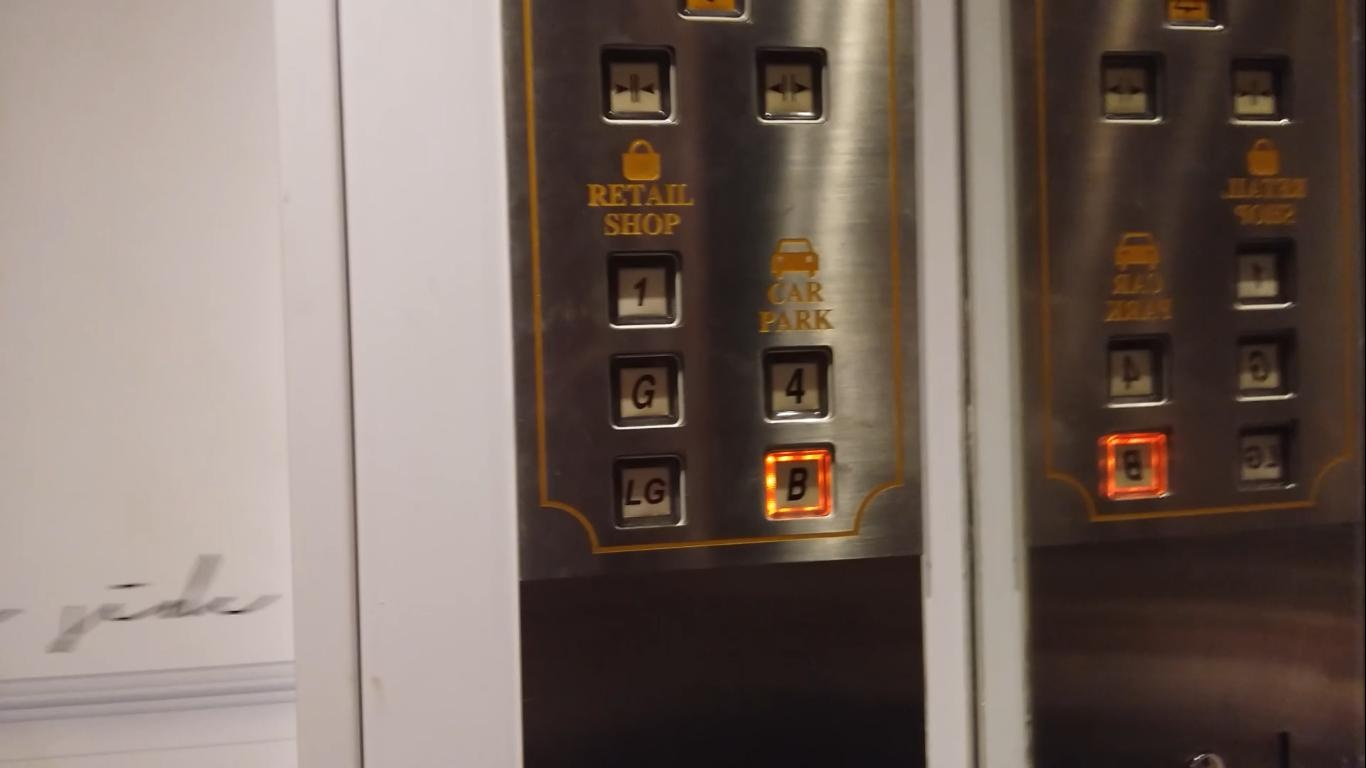1: (600, 246, 685, 333)
4: (757, 338, 839, 429)
B: (760, 444, 844, 523)
G: (605, 346, 688, 436)
LG: (606, 450, 691, 537)
close: (593, 39, 683, 130), (1223, 49, 1296, 130)
open: (747, 40, 830, 131), (1094, 45, 1169, 130)
unknown: (1097, 326, 1175, 412), (1220, 329, 1307, 406), (1094, 423, 1175, 505), (1226, 420, 1307, 495), (1223, 237, 1297, 312)
